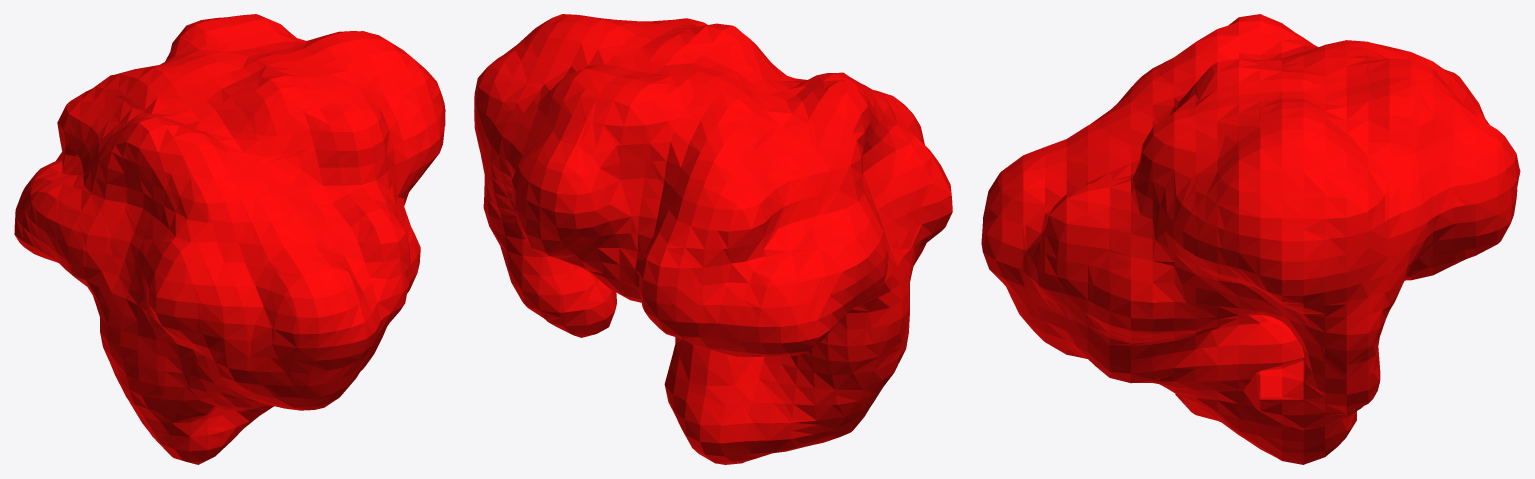
The model's file is hemL_coarse.dae.
The picture shows the model from 3 angles, left to right: view 1: azimuth 30°, elevation 25°; view 2: azimuth 150°, elevation 25°; view 3: azimuth 270°, elevation 25°; orthographic projection. The views are drawn at different scales.
Visible parts, largest first — view 1: hemL; view 2: hemL; view 3: hemL.
Boxes of the visible parts, x1,y1,x2,y2 form: hemL: (14,14,445,464); hemL: (474,14,952,464); hemL: (981,14,1520,464).
Bounding box in the file's own units: 61.41 × 58.37 × 67.17.
